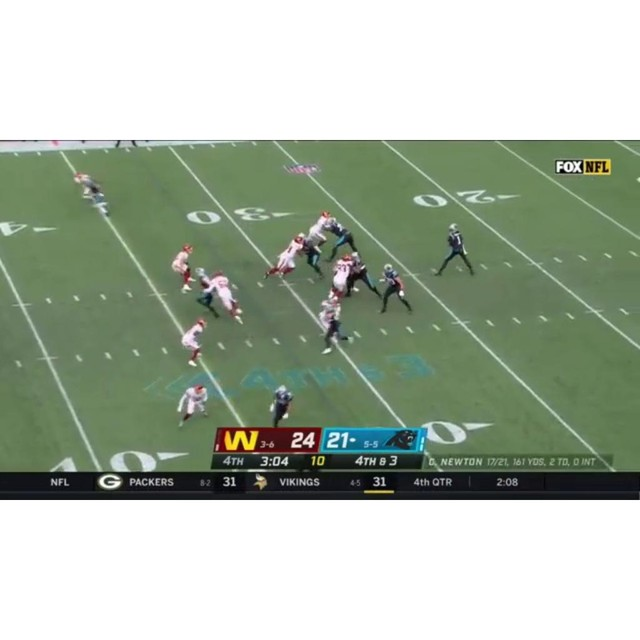american-football-player: (433, 222, 475, 277), (262, 234, 304, 283), (378, 264, 413, 315), (213, 272, 244, 325), (349, 252, 382, 300), (176, 383, 208, 429), (181, 318, 207, 367), (327, 219, 358, 258), (171, 243, 195, 293), (195, 268, 219, 317), (301, 234, 326, 281), (270, 384, 294, 428), (330, 254, 354, 297), (307, 211, 333, 249)
